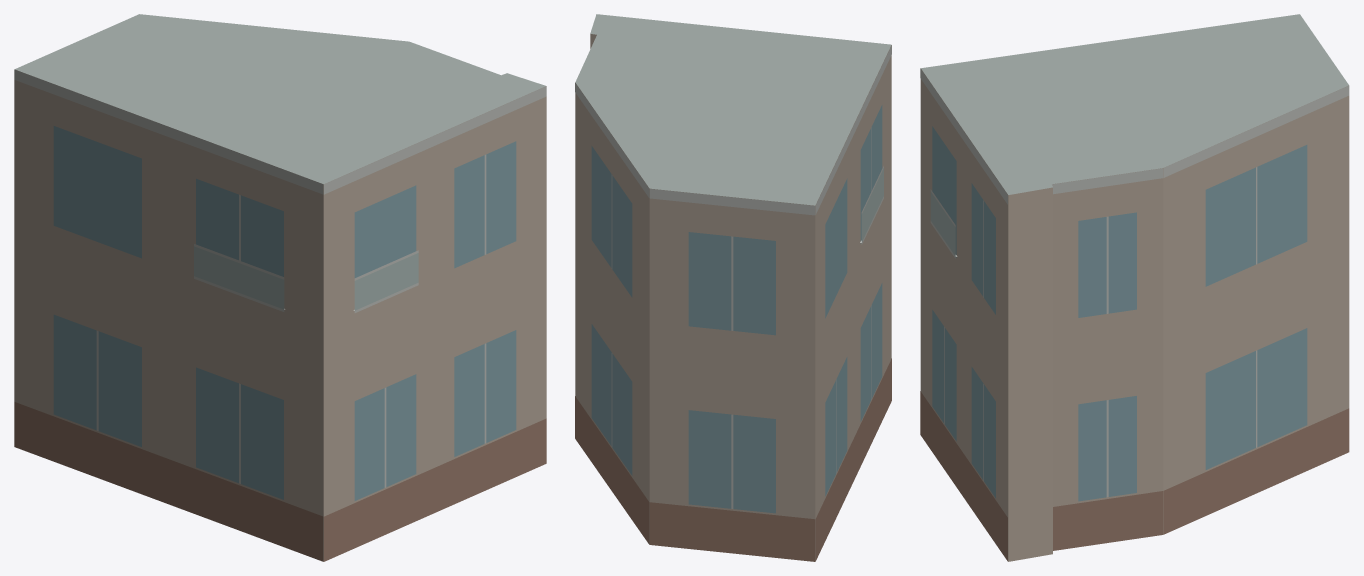
Rendered from survey-upis-32464761.glb.
3 renders of one model, left to right at view 1: azimuth 30°, elevation 25°; view 2: azimuth 150°, elevation 25°; view 3: azimuth 270°, elevation 25°, orthographic. The views are drawn at different scales.
Parts seen in each view (by area): view 1: survey-upis-32464761.tmp; view 2: survey-upis-32464761.tmp; view 3: survey-upis-32464761.tmp.
Boxes of the visible parts, x1,y1,x2,y2 form: survey-upis-32464761.tmp: (14, 14, 546, 561); survey-upis-32464761.tmp: (575, 14, 891, 561); survey-upis-32464761.tmp: (920, 14, 1349, 561).
Bounding box in the file's own units: 9.33 × 8.8 × 9.33.
